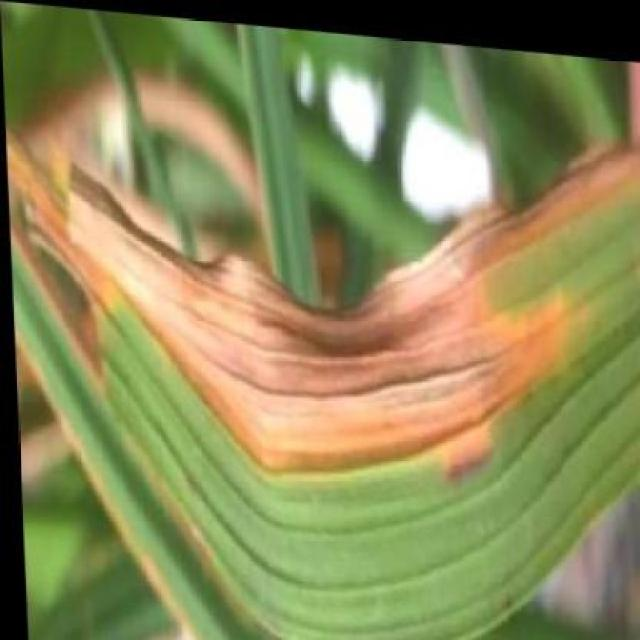Brown_Spot: (103, 220, 592, 637)
